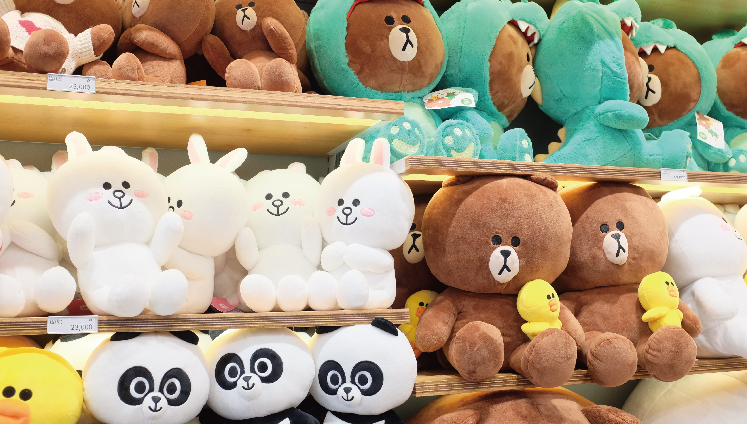line_brown: (413, 166, 578, 299), (549, 168, 691, 285)
